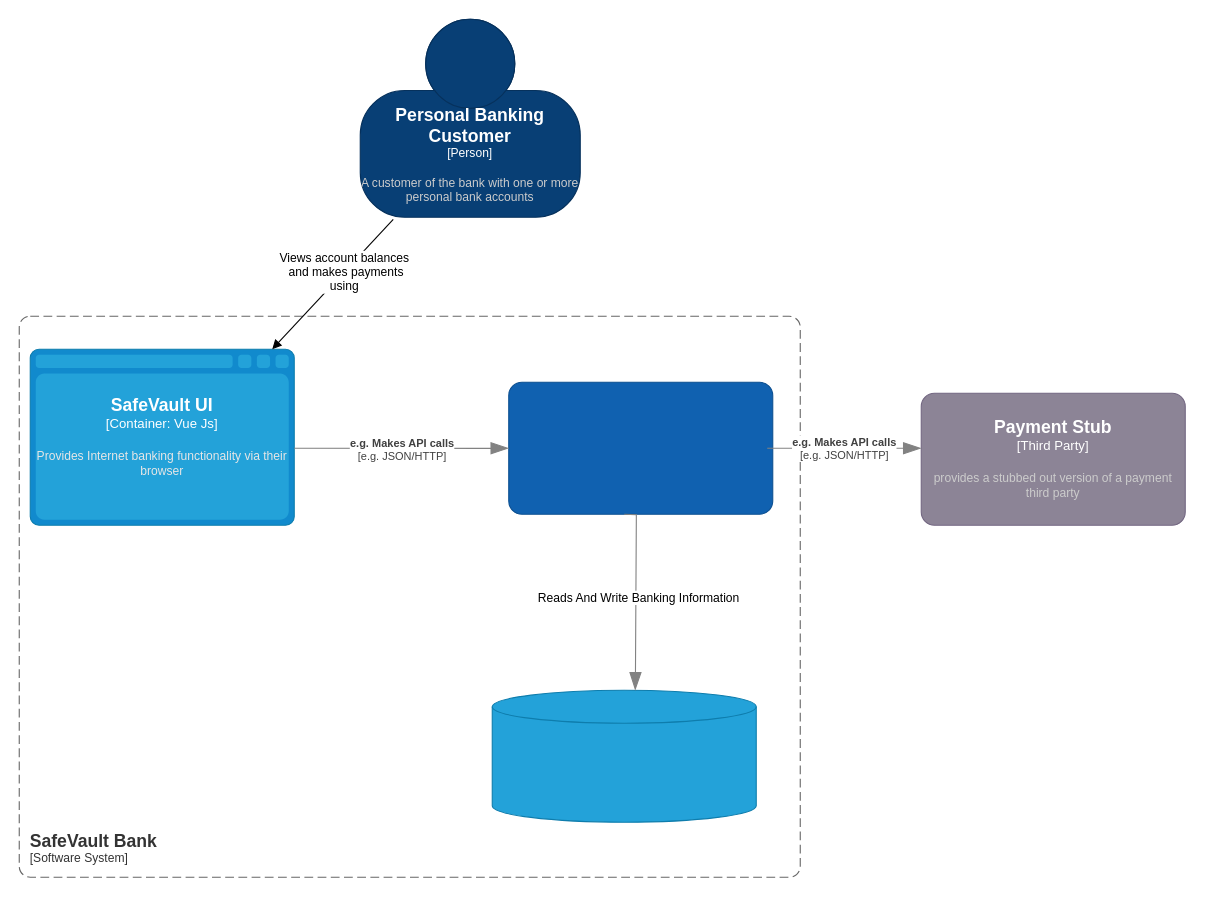
Some shapes in this 1205 by 897 pixel diagram are drawn without their labels. The shapes that lost their labels are listed below. From the top down, each one's centre as x and y in pixels, then its label:
At pixel 640 447: "SafeVault API [API] provides banking functionality via JSON/HTTP API".
At pixel 623 755: "SafeVault [SafeVault: e.g. Sql Server Database] user account information, access".
